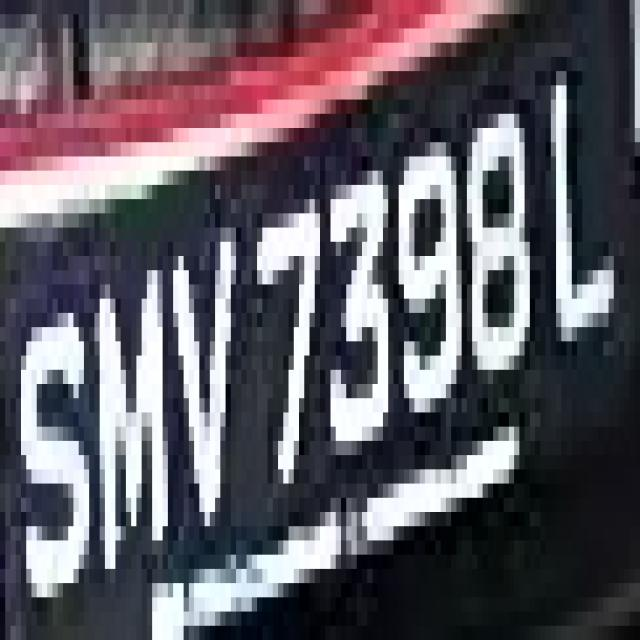3: (320, 86, 404, 470)
7: (236, 185, 336, 569)
8: (446, 71, 535, 413)
9: (383, 100, 472, 483)
L: (524, 85, 630, 370)
M: (84, 213, 178, 598)
S: (10, 270, 94, 583)
V: (162, 156, 246, 512)
